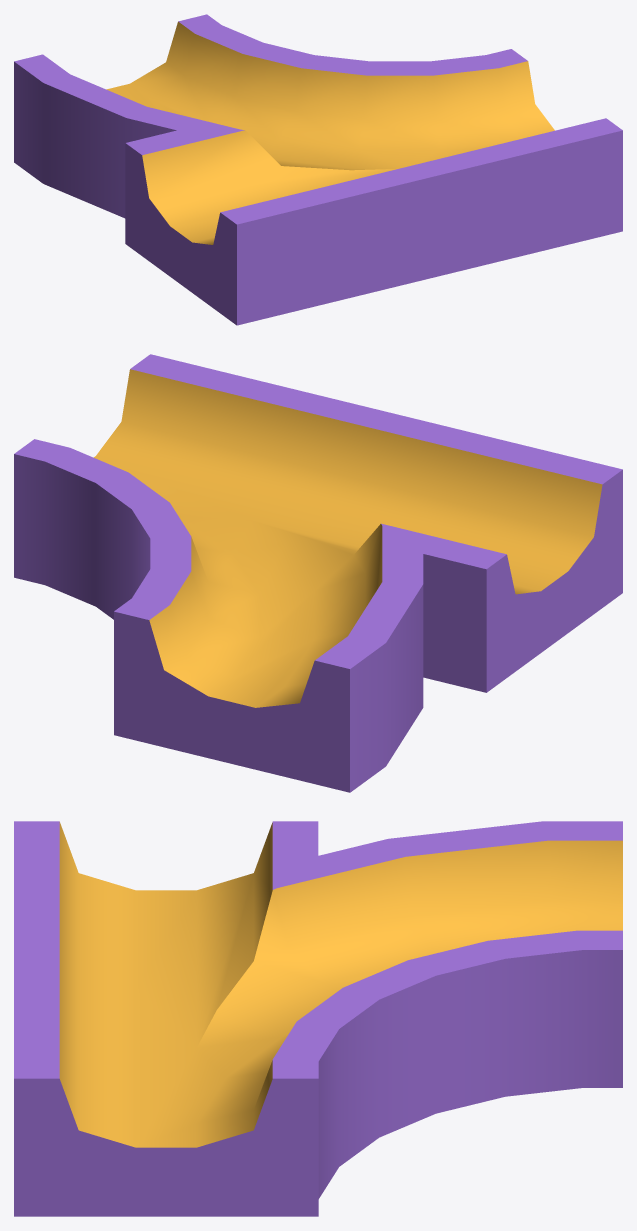
The model's file is split-right-col.glb.
3 renders of one model, top to bottom at view 1: azimuth 30°, elevation 25°; view 2: azimuth 150°, elevation 25°; view 3: azimuth 270°, elevation 25°, orthographic. The views are drawn at different scales.
Visible parts, largest first — view 1: split-right-col; view 2: split-right-col; view 3: split-right-col.
Part boxes in pixels (bbox=[...]): split-right-col: bbox=[14, 14, 622, 325]; split-right-col: bbox=[14, 354, 622, 792]; split-right-col: bbox=[14, 821, 622, 1216].
Size of the model in its own units: 2 by 0.5 by 2.
1 material, 1 textured.
